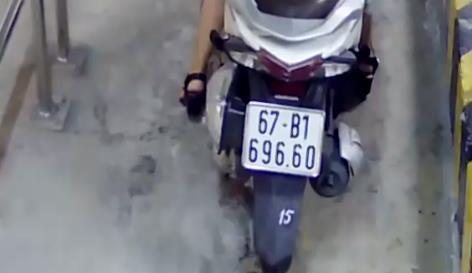lisence: (241, 101, 325, 177)
